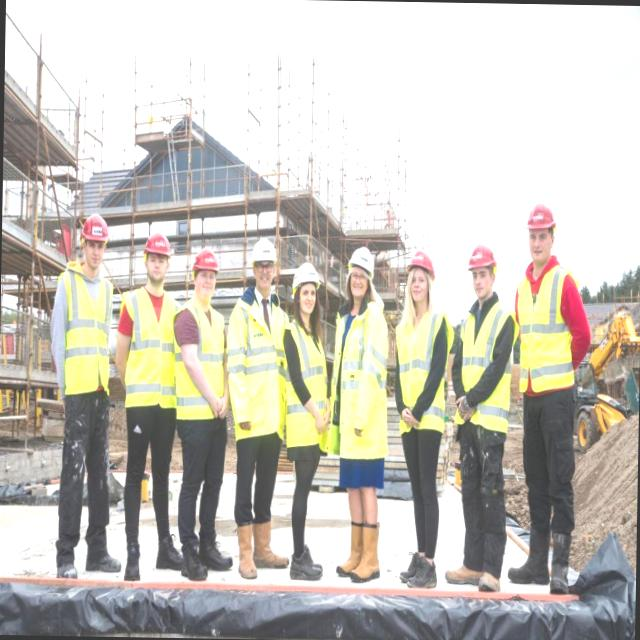helmet: (136, 216, 176, 265), (518, 198, 558, 240), (76, 215, 118, 253), (190, 245, 227, 278), (468, 239, 500, 277), (348, 242, 378, 282), (249, 237, 282, 271), (409, 251, 437, 287), (293, 264, 323, 294)
no-goggles: (346, 268, 370, 290), (194, 267, 218, 286), (524, 229, 554, 244), (406, 270, 429, 286), (146, 252, 169, 268), (84, 237, 107, 253), (254, 260, 275, 276), (298, 285, 318, 301), (472, 266, 491, 282)
vest: (329, 293, 391, 472), (224, 282, 290, 449), (50, 256, 120, 400), (510, 255, 574, 408), (452, 276, 512, 432), (172, 284, 230, 437), (118, 276, 181, 416), (393, 298, 452, 441), (278, 310, 329, 452)
